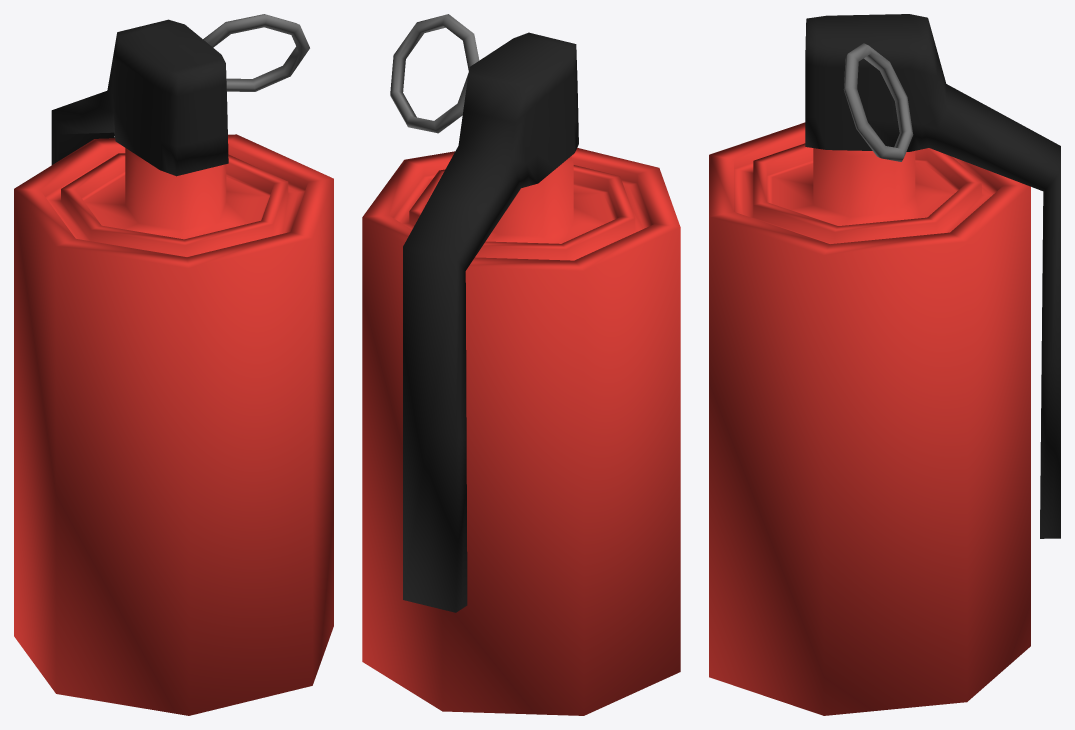
File: Incendiary Grenade (Model).fbx
The picture shows the model from 3 angles, left to right: view 1: azimuth 30°, elevation 25°; view 2: azimuth 150°, elevation 25°; view 3: azimuth 270°, elevation 25°; orthographic projection. The views are drawn at different scales.
Parts seen in each view (by area): view 1: Grenade, Handle, Check; view 2: Grenade, Handle, Check; view 3: Grenade, Handle, Check.
Part boxes in pixels (left/top/right/bottom): Grenade: left=14, top=134, right=333, bottom=715; Handle: left=51, top=19, right=228, bottom=176; Check: left=203, top=14, right=309, bottom=91; Grenade: left=362, top=148, right=680, bottom=715; Handle: left=403, top=32, right=578, bottom=612; Check: left=390, top=14, right=479, bottom=133; Grenade: left=709, top=122, right=1030, bottom=715; Handle: left=805, top=14, right=1060, bottom=538; Check: left=843, top=43, right=913, bottom=161.
Size of the model in its own units: 46.69 by 98.95 by 49.75.
